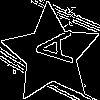A: (26, 29, 73, 67)
